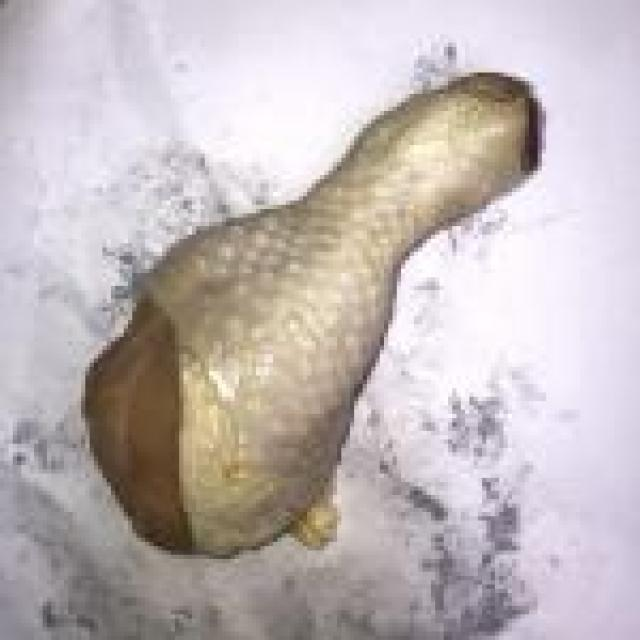leg: (59, 55, 557, 578)
